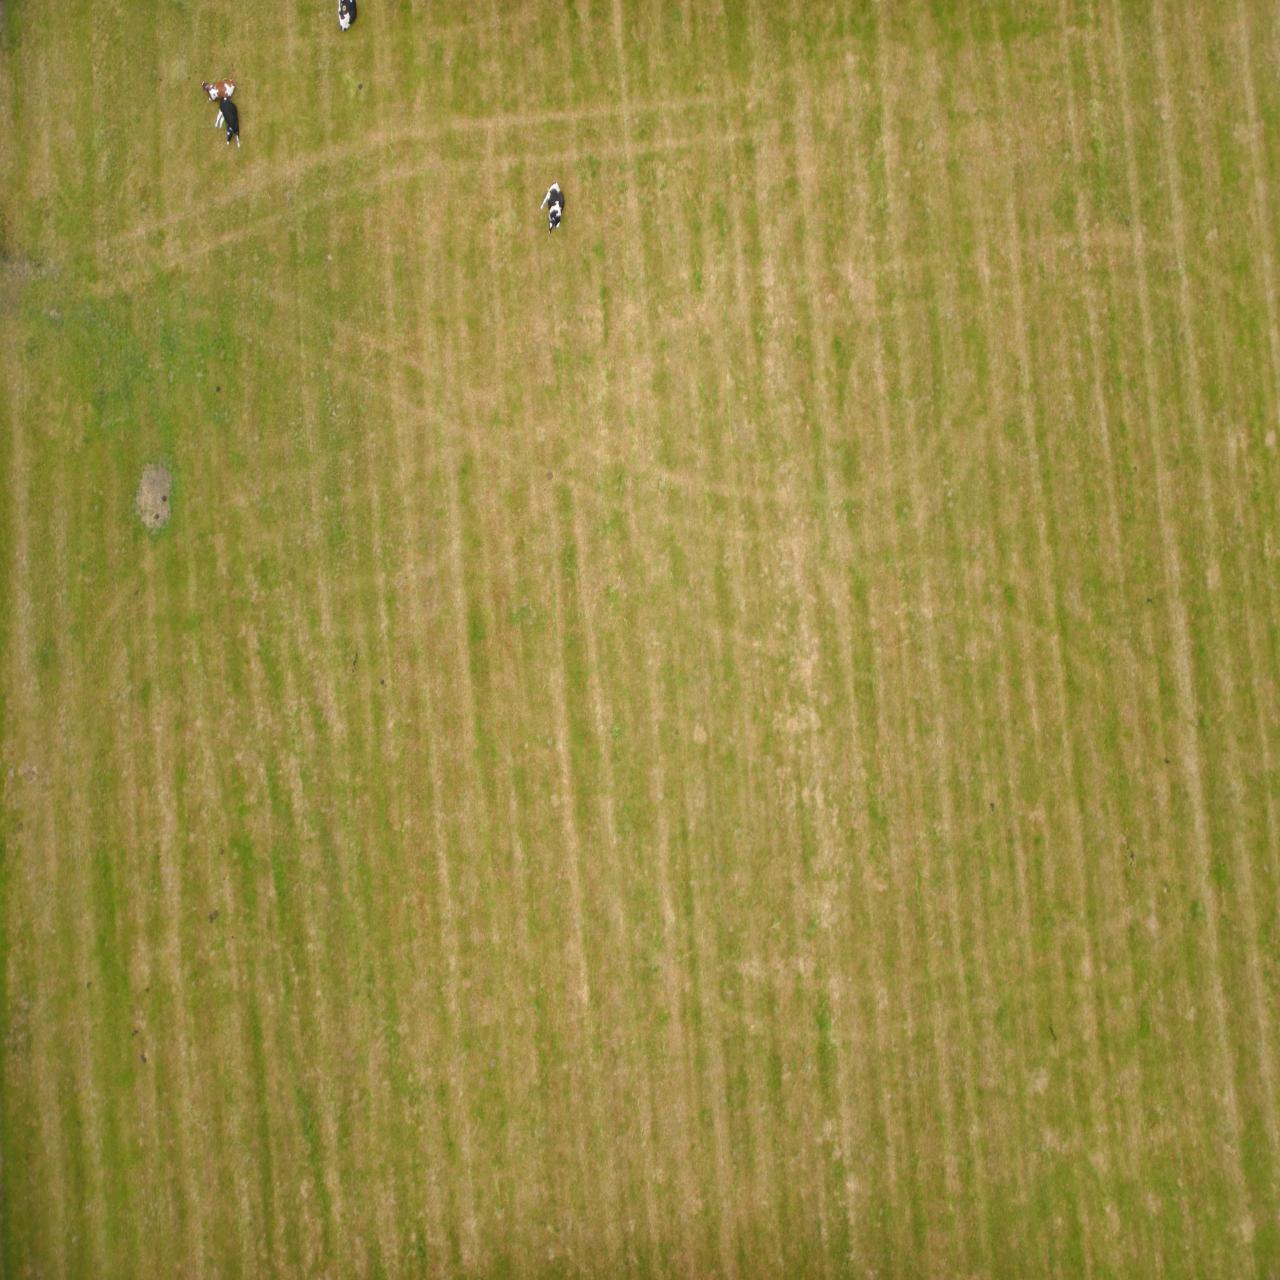cow: (1037, 1132, 1065, 1183), (715, 1047, 740, 1098), (1043, 1178, 1080, 1204)
